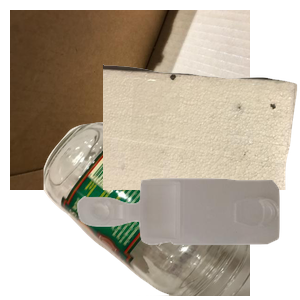cardboard: (10, 10, 250, 190)
glass: (41, 120, 281, 300)
plastic: (75, 176, 300, 300)
trash: (103, 62, 300, 242)
